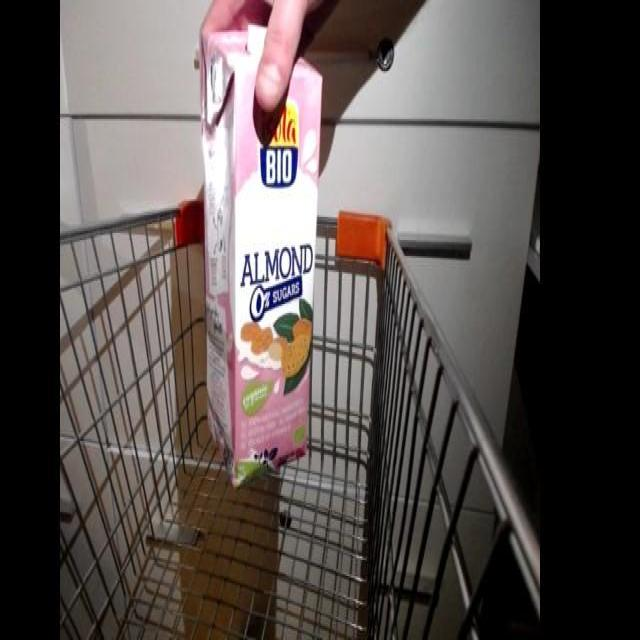Almond Milk: (198, 13, 328, 497)
